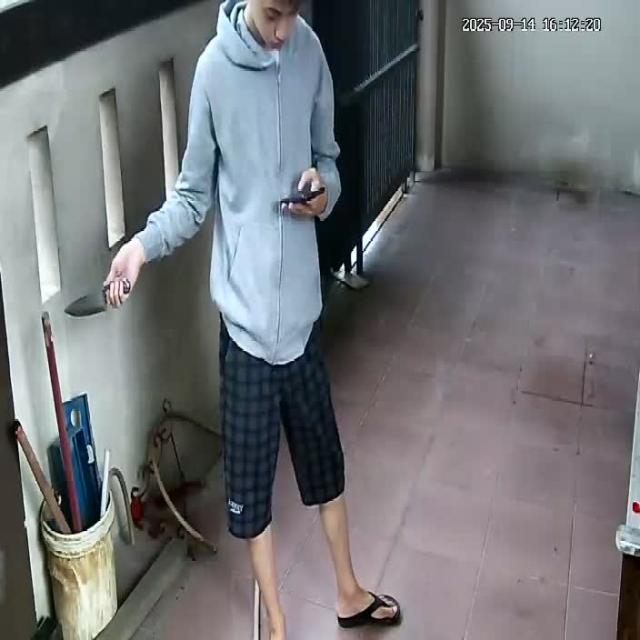senjata_tajam: (64, 286, 110, 320)
